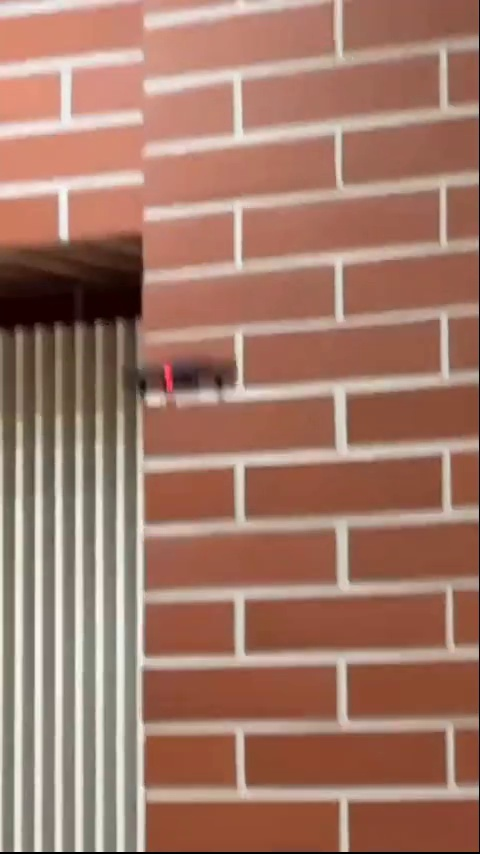drone: (123, 357, 246, 409)
